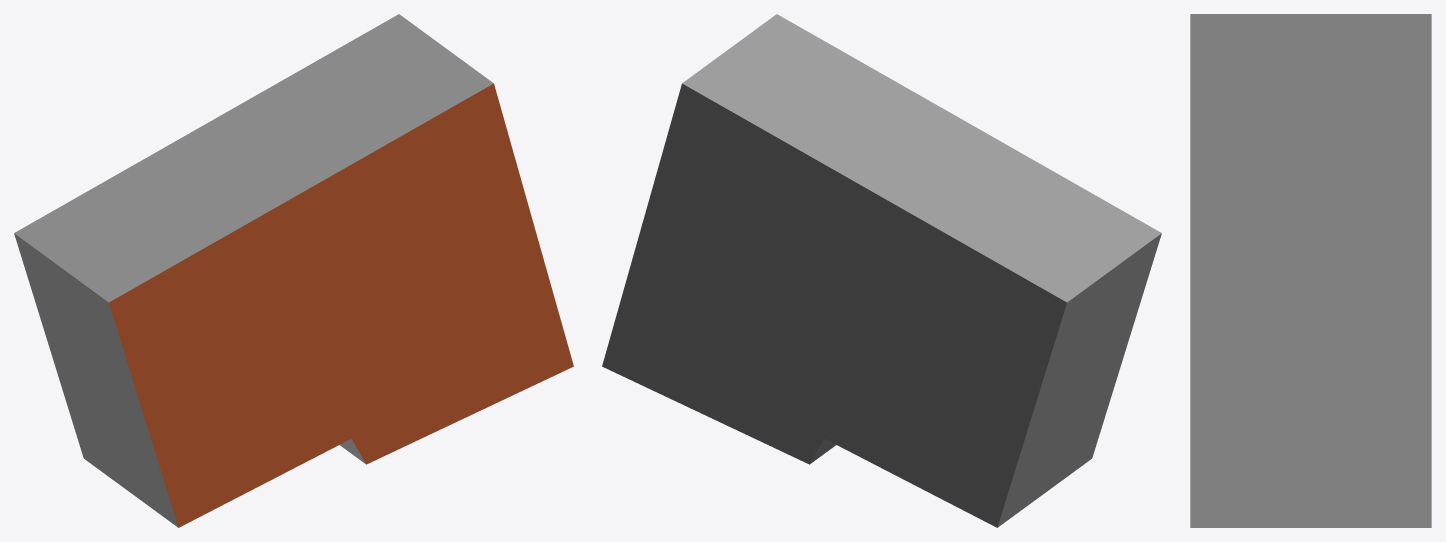
The model's file is construction_1673_assumed_A_Casa_h6m.obj.
The picture shows the model from 3 angles, left to right: view 1: azimuth 30°, elevation 25°; view 2: azimuth 150°, elevation 25°; view 3: azimuth 270°, elevation 25°; orthographic projection. The views are drawn at different scales.
Parts seen in each view (by area): view 1: construction_1673_assumed_A_Casa; view 2: construction_1673_assumed_A_Casa; view 3: construction_1673_assumed_A_Casa.
Part boxes in pixels (box(x1,y1,x2,y2)): construction_1673_assumed_A_Casa: box(14, 14, 573, 527); construction_1673_assumed_A_Casa: box(602, 14, 1161, 527); construction_1673_assumed_A_Casa: box(1190, 14, 1431, 527).
Bounding box in the file's own units: 16.98 × 12.83 × 6.
